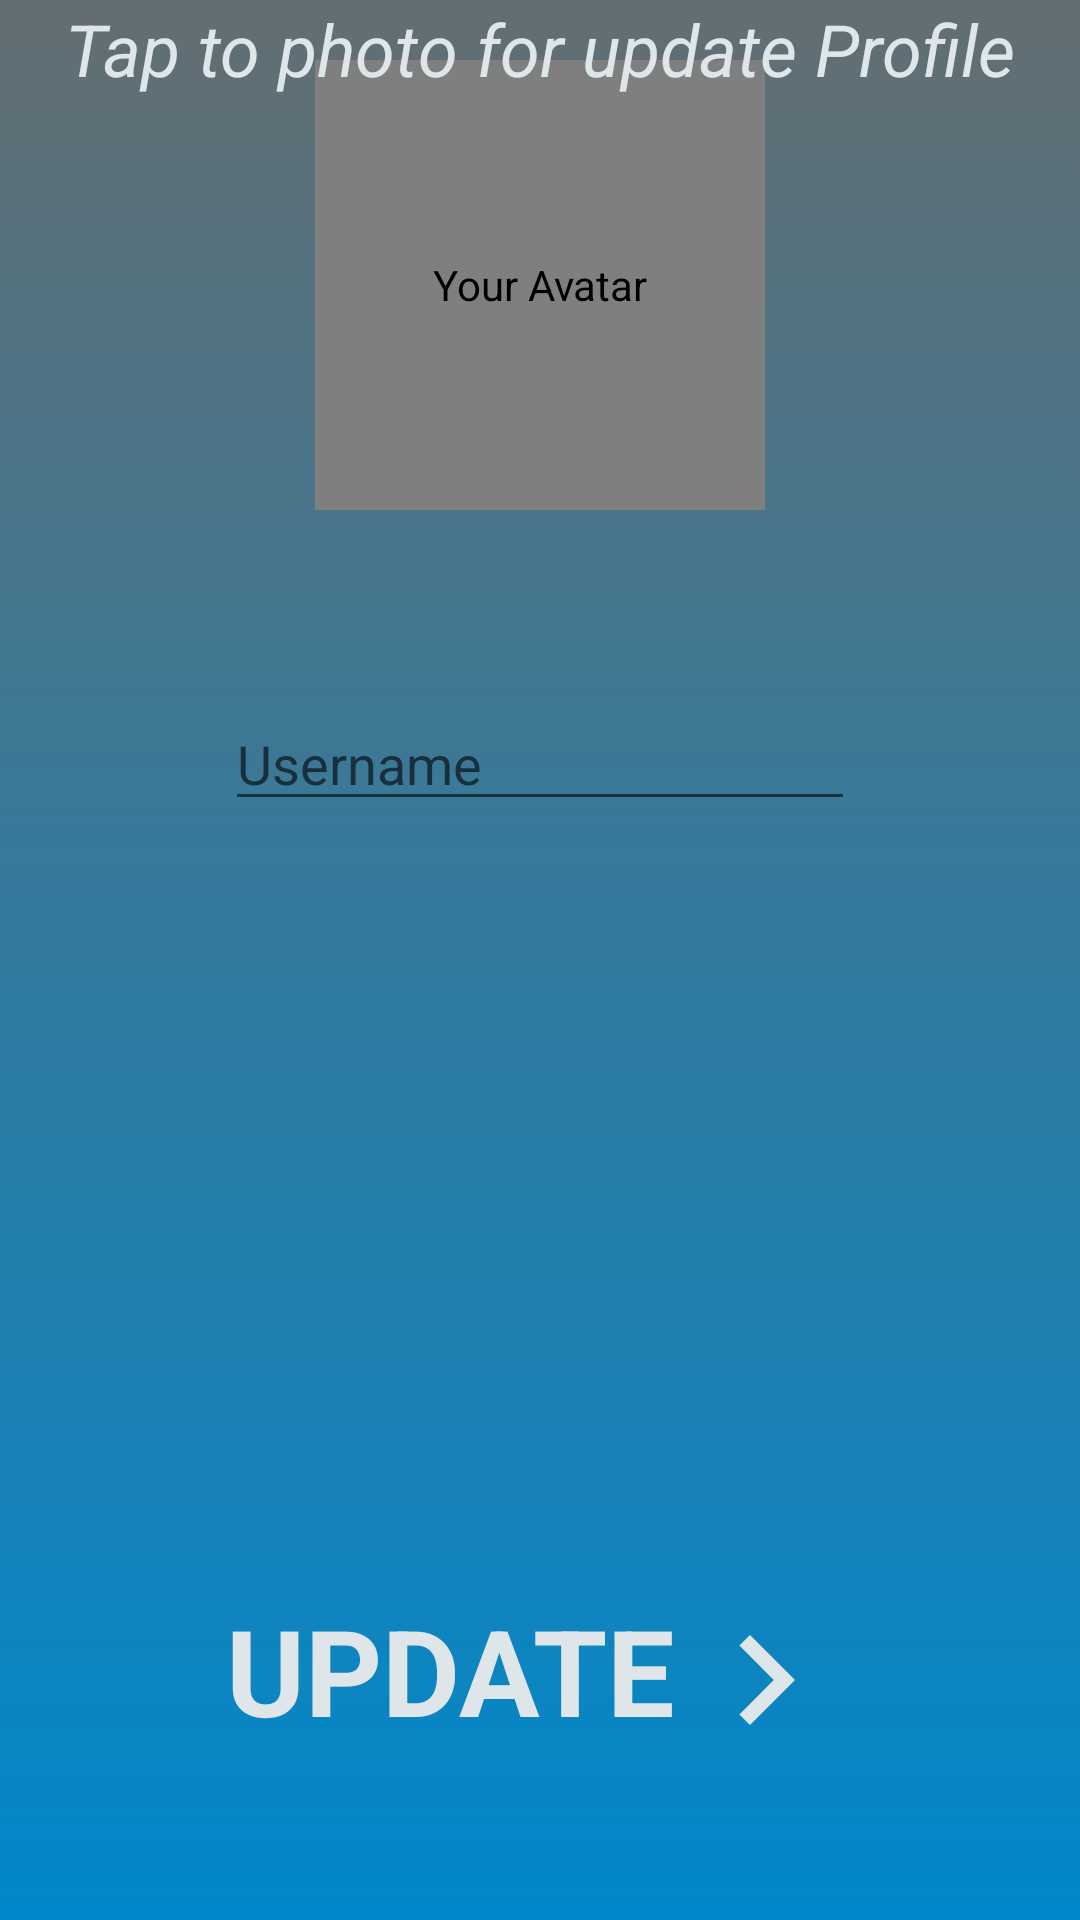

Icon bounding boxes for this 1080 x 1920 phone screenshot, format rect(x1, y1, x2, y2):
next: rect(739, 1635, 795, 1725)
